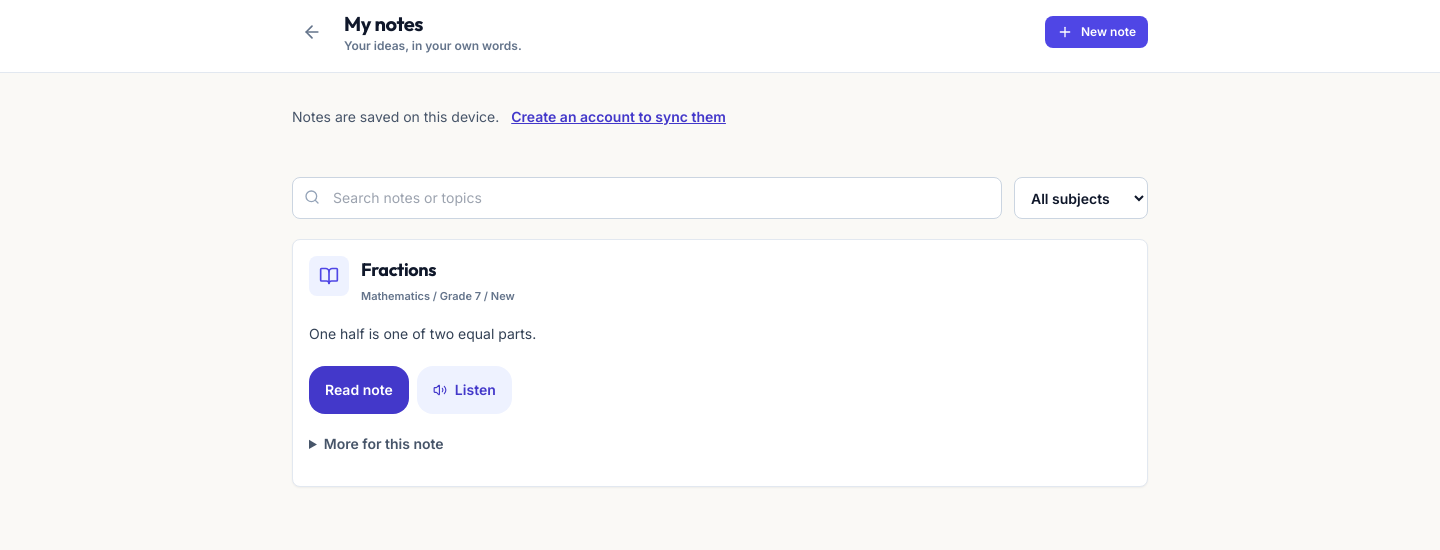
Learner notebook › distinguishes an empty search from an empty notebook
The image size is (1440, 550).
In the search field labelled "Search notes": (647, 198) [292,177,1002,219], type "nothing"
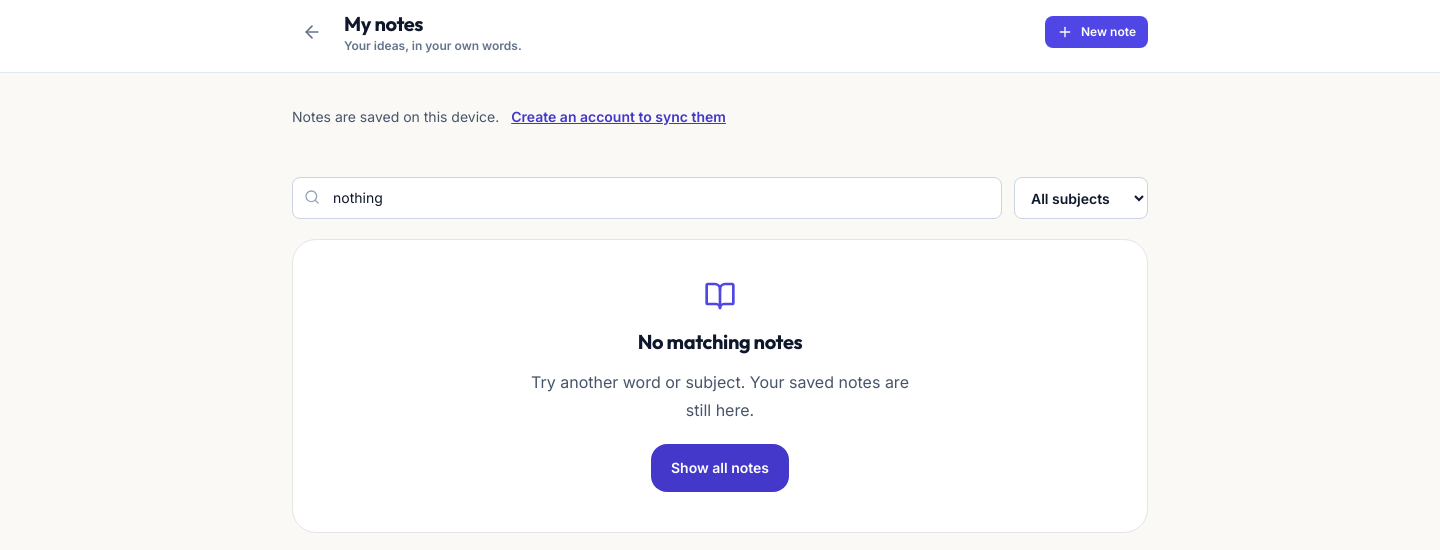
Result: the heading "No matching notes" is shown at [638,329,802,354]
Click the button "Show all notes": (720, 468) [651,444,789,492]
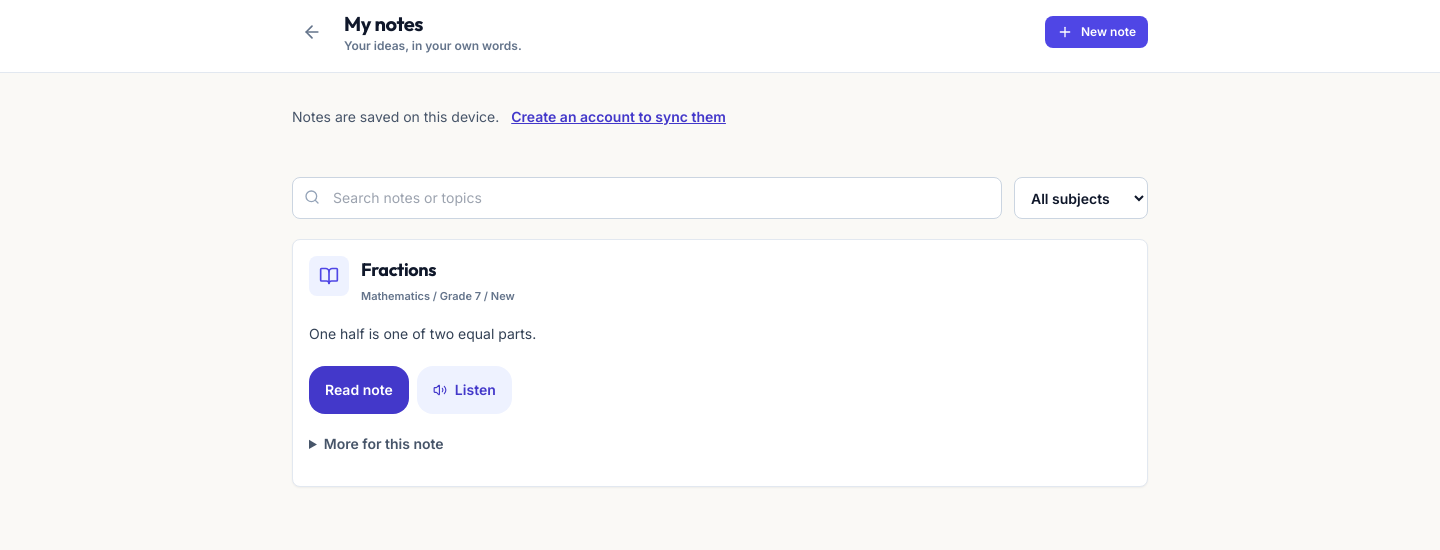
Result: the heading "Fractions" is shown at [361,258,436,281]
